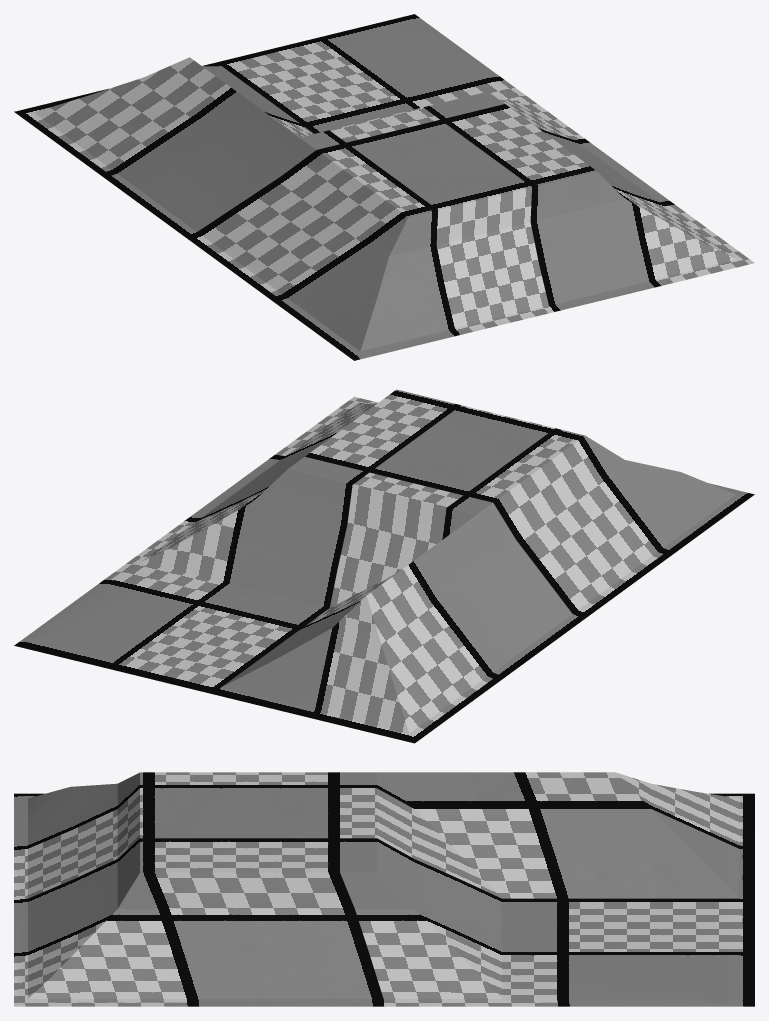
Rendered from roof_6842403.glb.
The picture shows the model from 3 angles, top to bottom: view 1: azimuth 30°, elevation 25°; view 2: azimuth 150°, elevation 25°; view 3: azimuth 270°, elevation 25°; orthographic projection. The views are drawn at different scales.
Visible parts, largest first — view 1: mesh; view 2: mesh; view 3: mesh.
Boxes of the visible parts, x1=… form: mesh: x1=14, y1=14, x2=754, y2=360; mesh: x1=14, y1=389, x2=754, y2=743; mesh: x1=14, y1=772, x2=754, y2=1006.
Size of the model in its own units: 34 by 6 by 50.
Materials: 1 (1 with a texture image).
